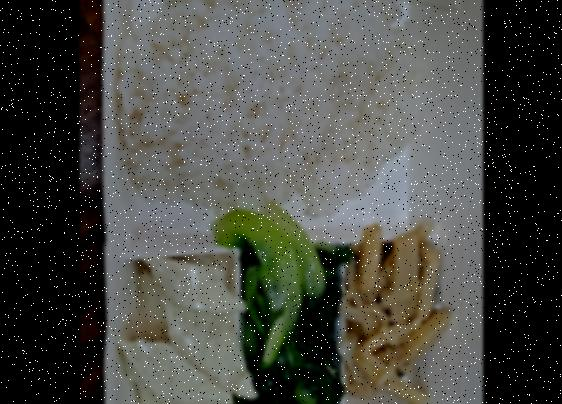big grilled chicken leg: (96, 0, 470, 404)
big herbal chicken leg: (114, 0, 427, 223)
braised fish fillet: (215, 212, 343, 404), (123, 252, 249, 404), (342, 226, 445, 404)
